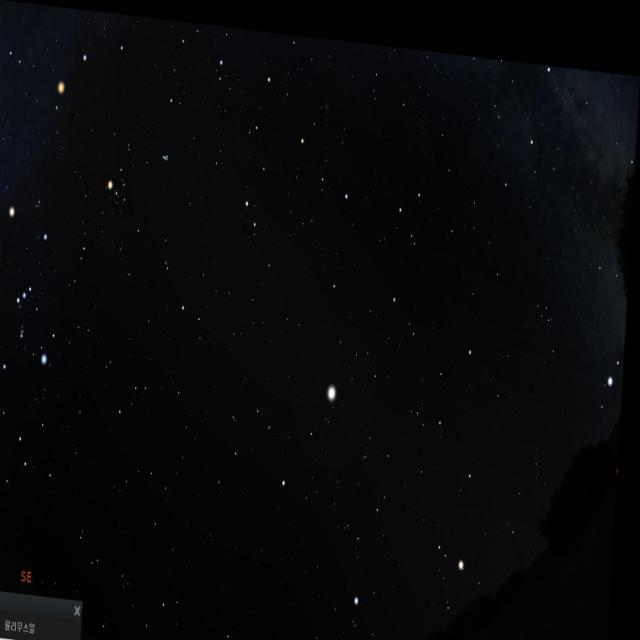cygnus: (510, 49, 640, 158)
orion: (0, 191, 66, 384)
pleiades: (158, 136, 174, 164)
taurus: (101, 123, 179, 245)
